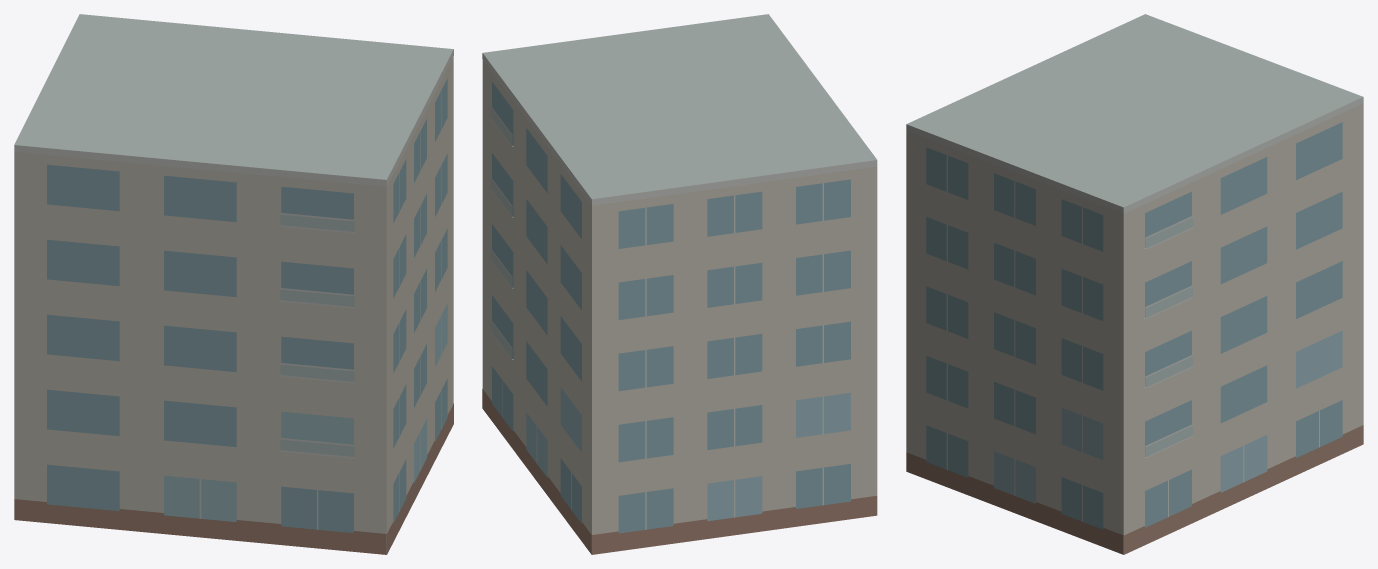
File: survey-upis-33029811.glb
The picture shows the model from 3 angles, left to right: view 1: azimuth 30°, elevation 25°; view 2: azimuth 150°, elevation 25°; view 3: azimuth 270°, elevation 25°; orthographic projection. The views are drawn at different scales.
Parts seen in each view (by area): view 1: survey-upis-33029811.tmp; view 2: survey-upis-33029811.tmp; view 3: survey-upis-33029811.tmp.
Boxes of the visible parts, box(x1,y1,x2,y2) form: survey-upis-33029811.tmp: box(14, 14, 453, 554); survey-upis-33029811.tmp: box(482, 14, 877, 554); survey-upis-33029811.tmp: box(906, 14, 1363, 554).
Bounding box in the file's own units: 16.02 × 13.4 × 16.
